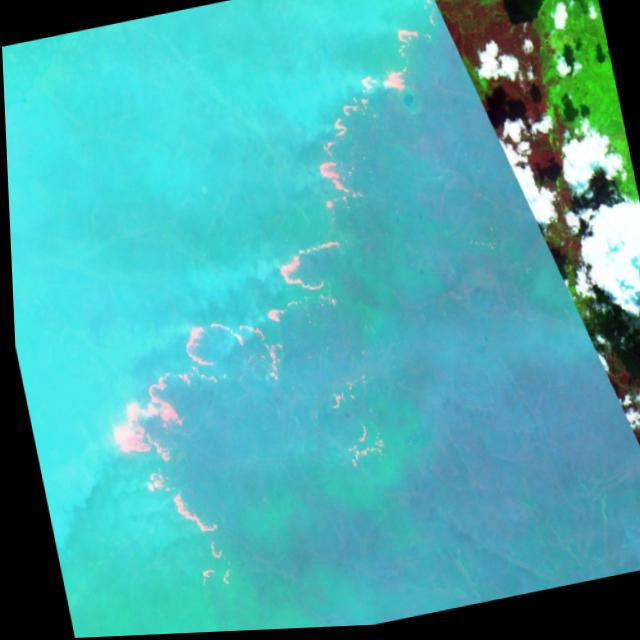fire: (29, 0, 550, 618)
